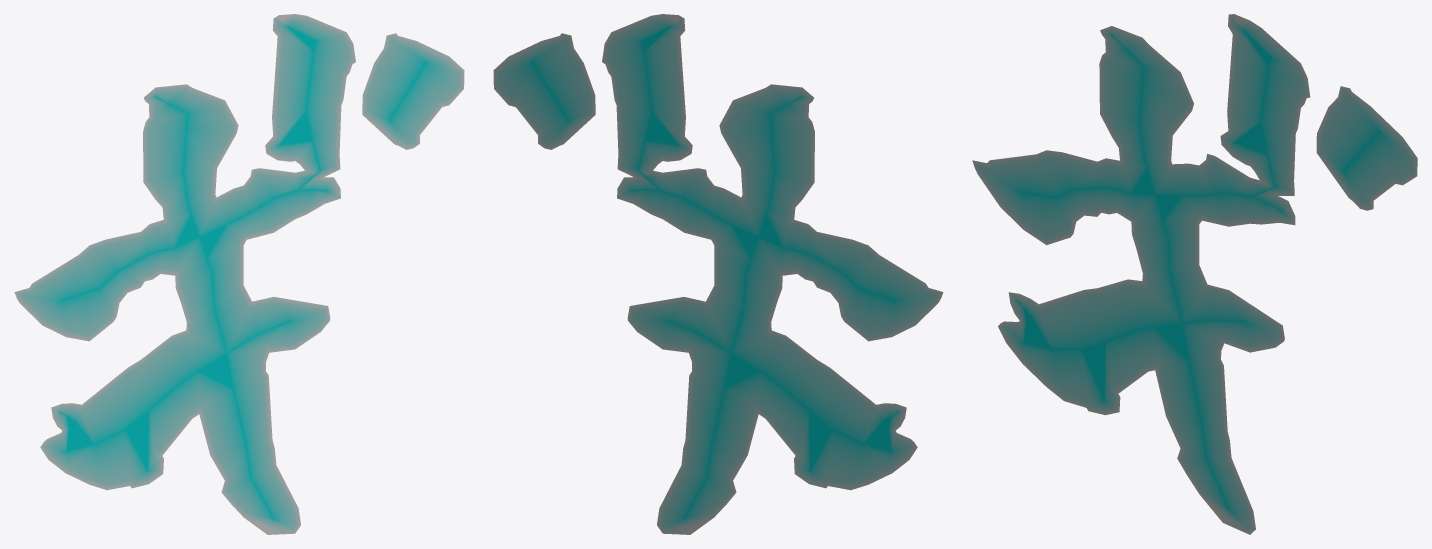
The model's file is SM_EFF_Text_SilentStrangle_03.glb.
3 renders of one model, left to right at view 1: azimuth 30°, elevation 25°; view 2: azimuth 150°, elevation 25°; view 3: azimuth 330°, elevation 25°, orthographic.
Parts seen in each view (by area): view 1: SM_EFF_Text_SilentStrangle_03; view 2: SM_EFF_Text_SilentStrangle_03; view 3: SM_EFF_Text_SilentStrangle_03.
Part boxes in pixels (x1,y1,x2,y2): SM_EFF_Text_SilentStrangle_03: (14,14,464,534); SM_EFF_Text_SilentStrangle_03: (493,14,943,534); SM_EFF_Text_SilentStrangle_03: (972,14,1417,534).
Bounding box in the file's own units: 0.8751 × 0.9709 × 9.67e-17.
